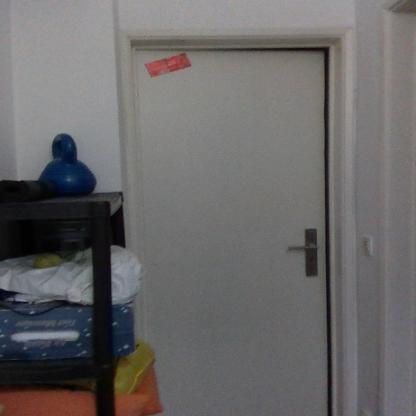door: (132, 47, 332, 416)
lever: (286, 242, 319, 254)
